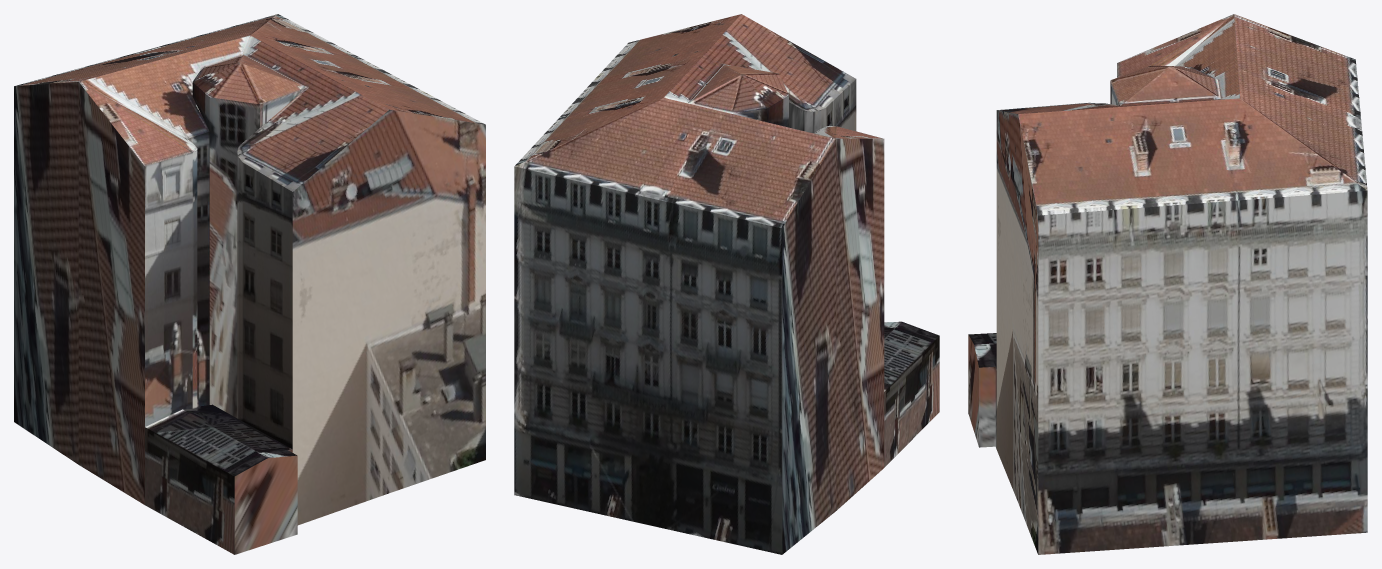
3 views of the same model, side by side, from view 1: azimuth 30°, elevation 25°; view 2: azimuth 150°, elevation 25°; view 3: azimuth 270°, elevation 25° (orthographic). The views are drawn at different scales.
Parts seen in each view (by area): view 1: Z_UP; view 2: Z_UP; view 3: Z_UP.
Boxes of the visible parts, x1,y1,x2,y2 form: Z_UP: (14,14,485,554); Z_UP: (514,14,939,554); Z_UP: (968,14,1367,554).
Size of the model in its own units: 22.61 by 27.06 by 24.51.
2 materials, 1 textured.
